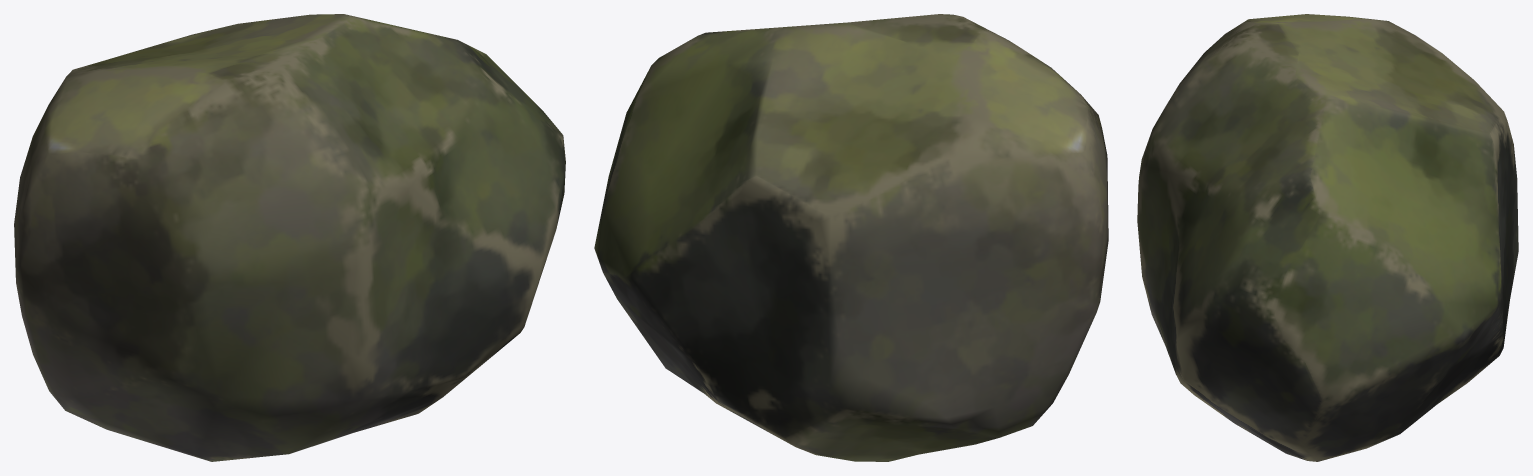
The model's file is SM_Rock_01.fbx.
3 views of the same model, side by side, from view 1: azimuth 30°, elevation 25°; view 2: azimuth 150°, elevation 25°; view 3: azimuth 270°, elevation 25° (orthographic). The views are drawn at different scales.
Parts seen in each view (by area): view 1: SM_Rock_01_LOD0; view 2: SM_Rock_01_LOD0; view 3: SM_Rock_01_LOD0.
Part boxes in pixels (bbox=[...]): SM_Rock_01_LOD0: bbox=[14, 14, 565, 461]; SM_Rock_01_LOD0: bbox=[594, 14, 1108, 461]; SM_Rock_01_LOD0: bbox=[1137, 14, 1518, 461].
Size of the model in its own units: 136 by 99.17 by 101.
1 material, 1 textured.
